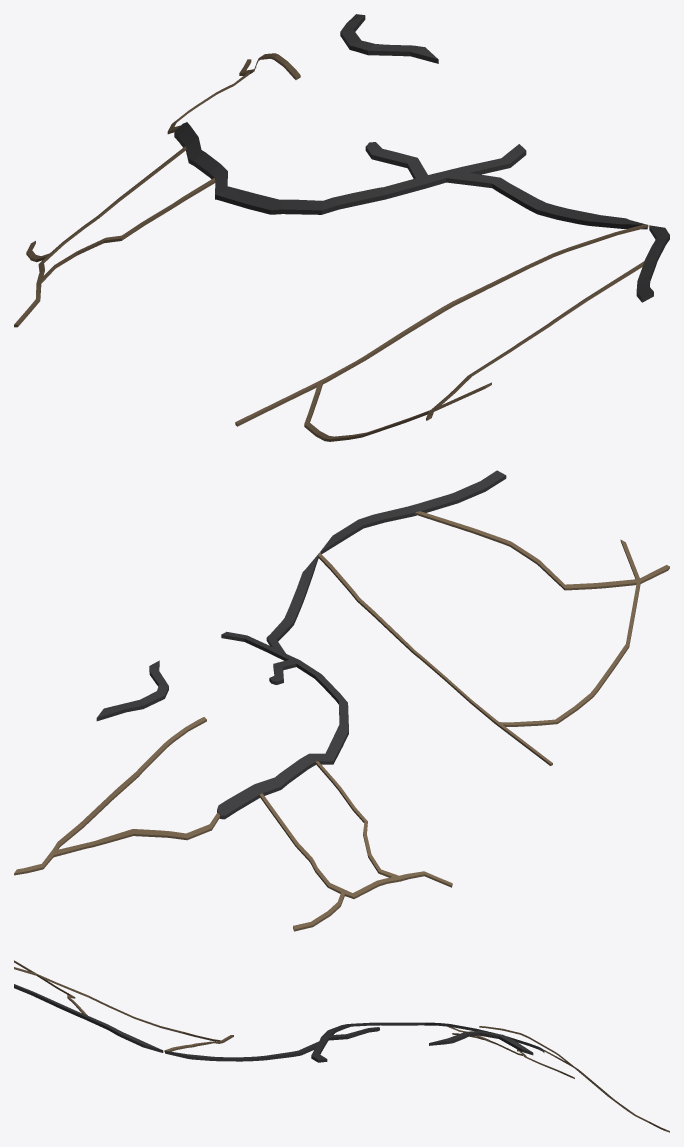
The model's file is 17-109438-59468.cecd7d85.glb.
3 renders of one model, top to bottom at view 1: azimuth 30°, elevation 25°; view 2: azimuth 150°, elevation 25°; view 3: azimuth 270°, elevation 25°, orthographic. The views are drawn at different scales.
Size of the model in its own units: 112 by 62.44 by 249.
